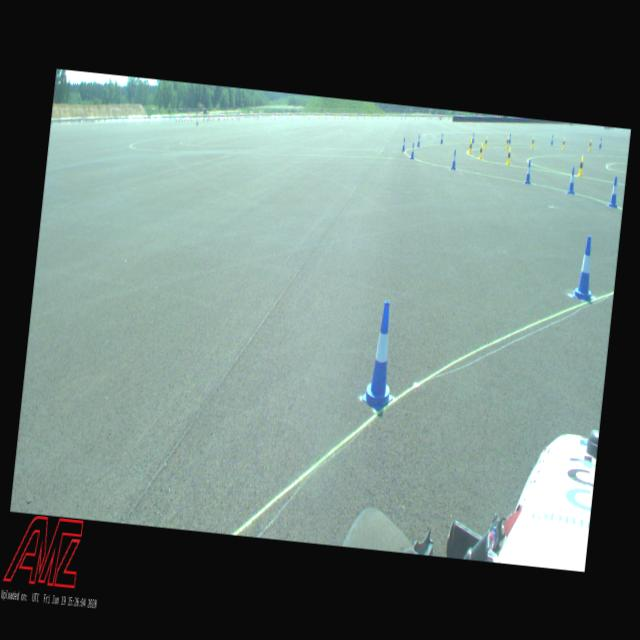blue_cone: (360, 298, 402, 412), (572, 235, 600, 302), (608, 176, 620, 207), (567, 166, 577, 194), (524, 160, 532, 183), (450, 149, 458, 169), (410, 142, 416, 158), (439, 132, 444, 144), (402, 137, 406, 151), (416, 135, 421, 146), (598, 136, 602, 148), (508, 133, 512, 143), (550, 134, 553, 144), (472, 132, 474, 142)
yellow_cone: (576, 156, 584, 176), (506, 146, 512, 164), (478, 143, 483, 159), (468, 140, 473, 154), (483, 136, 488, 149), (468, 138, 472, 150), (588, 139, 592, 150), (504, 136, 508, 147), (531, 136, 534, 147), (562, 138, 565, 148)
